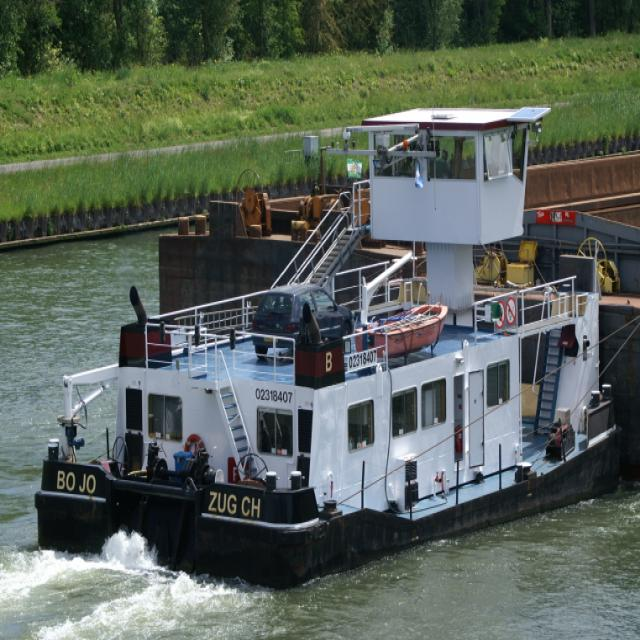tugboat: (31, 101, 632, 602)
